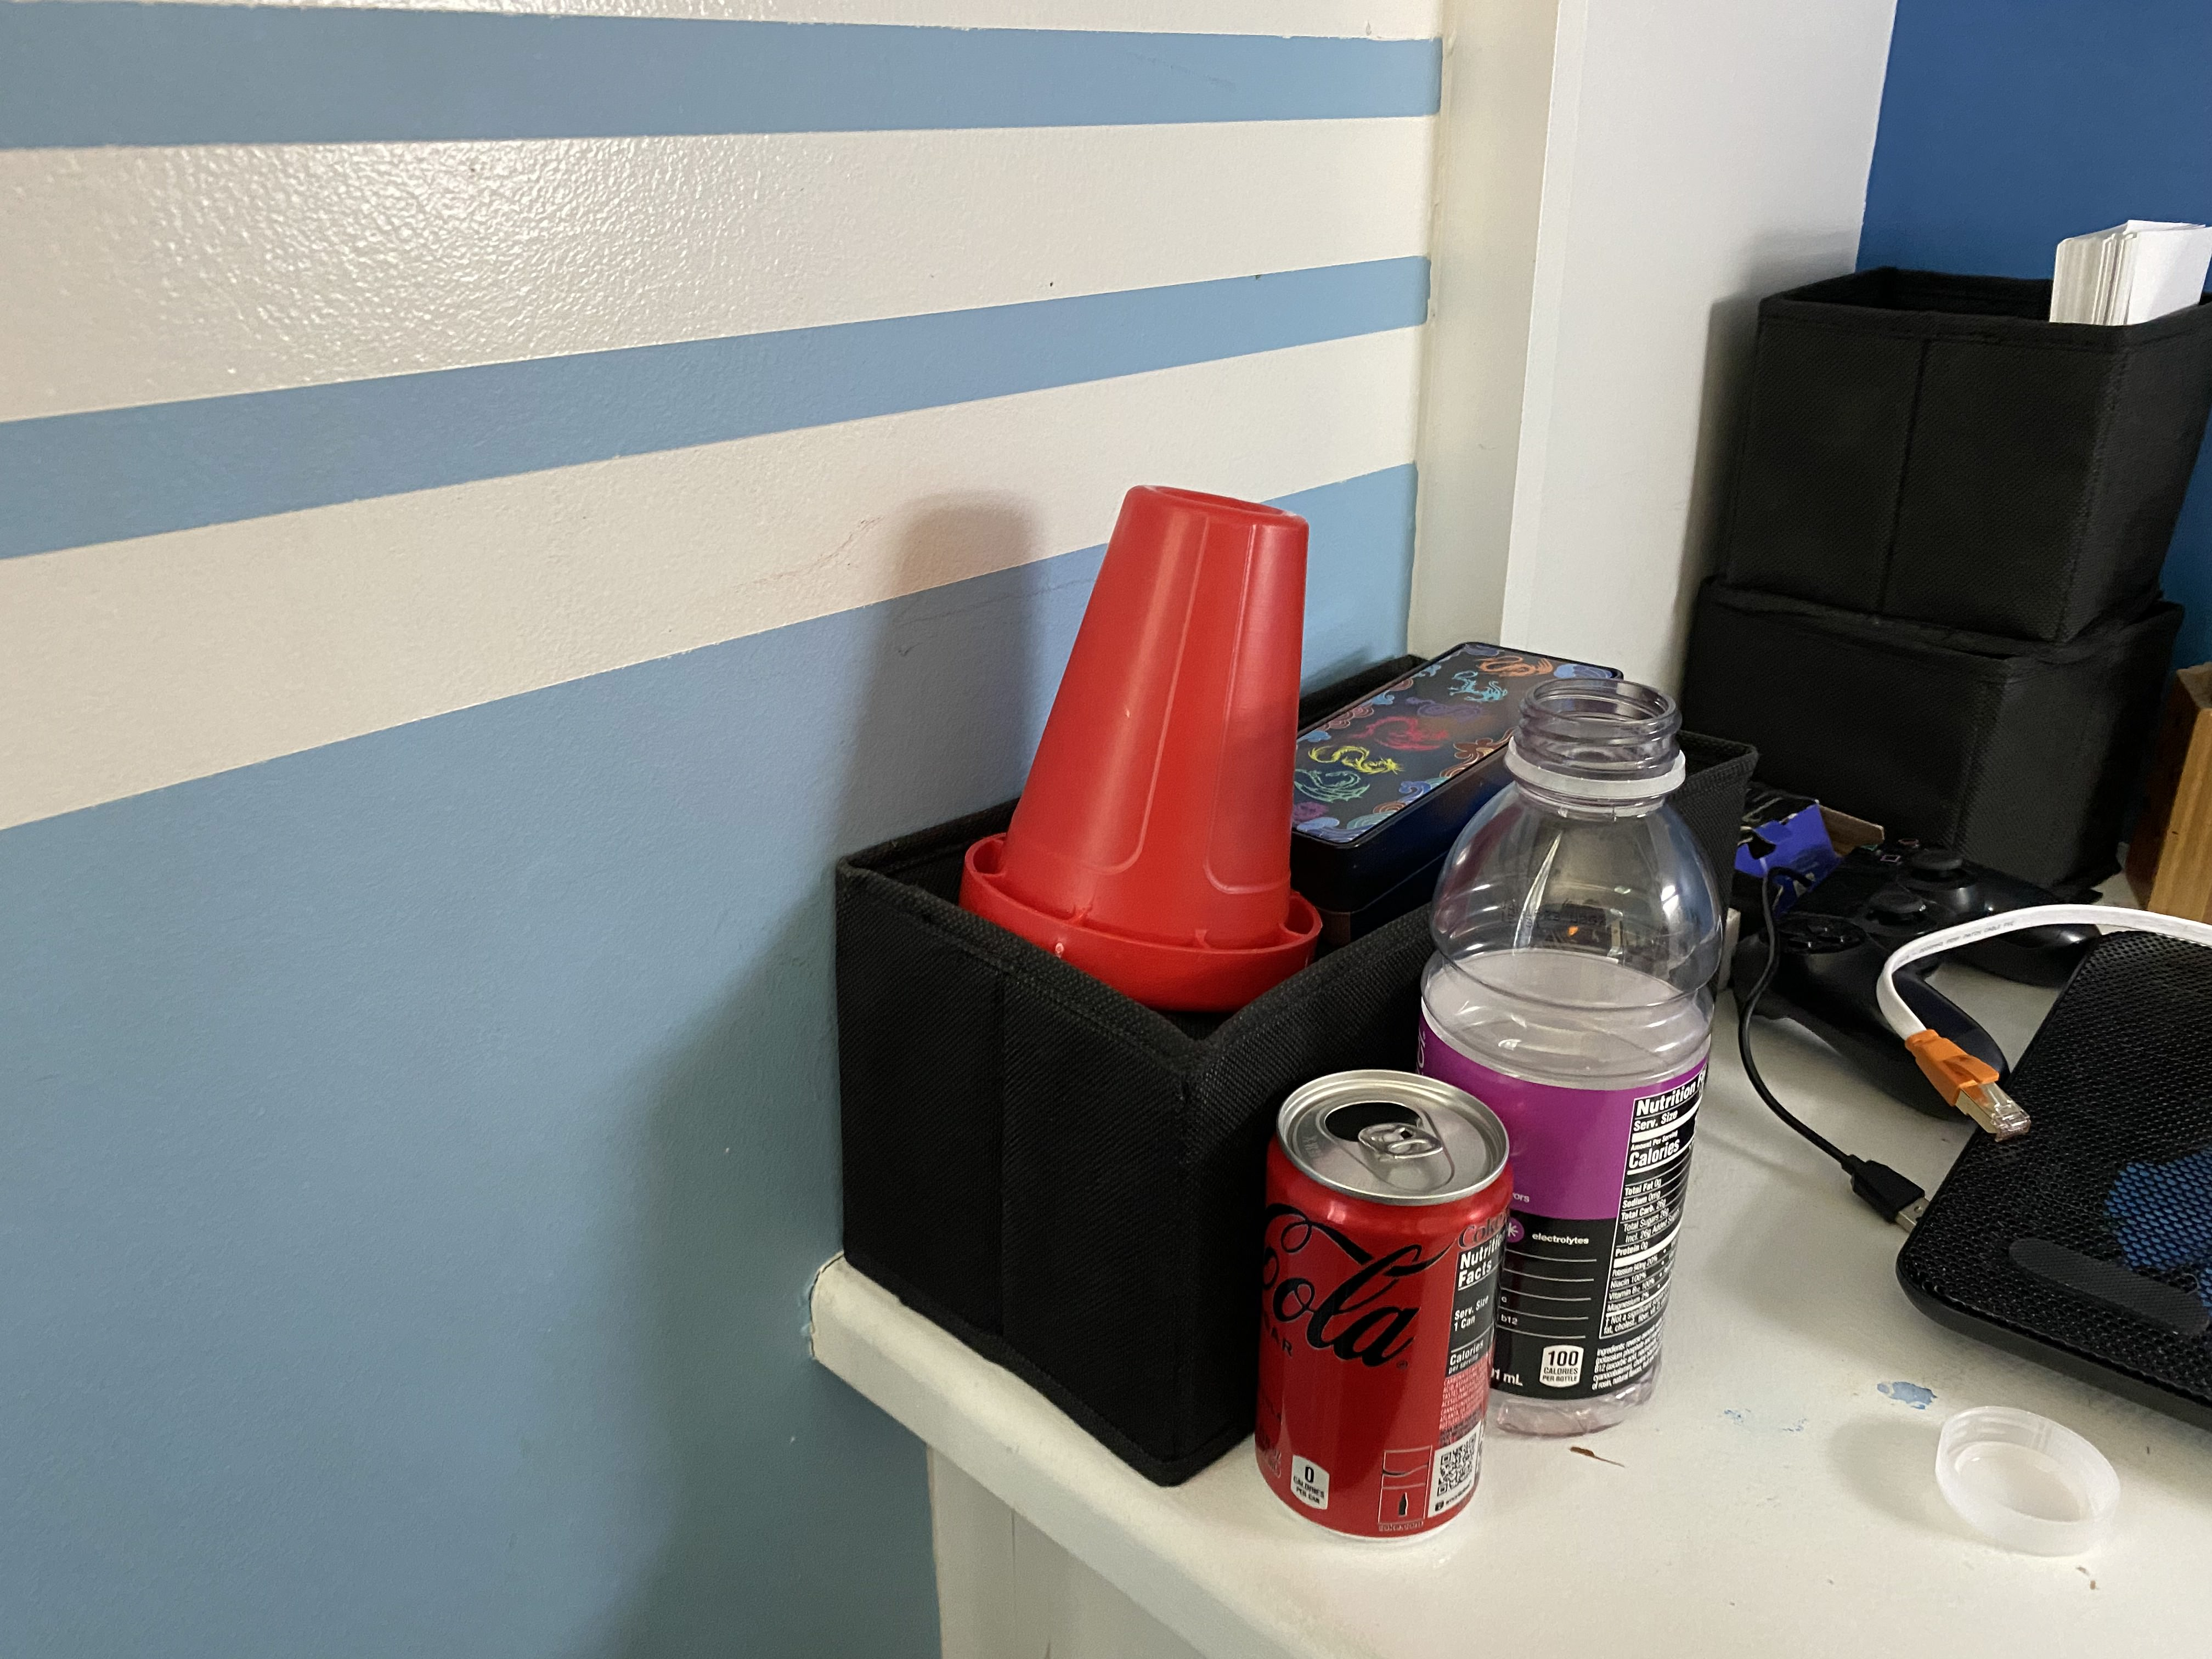redCone: (951, 477, 1331, 1021)
